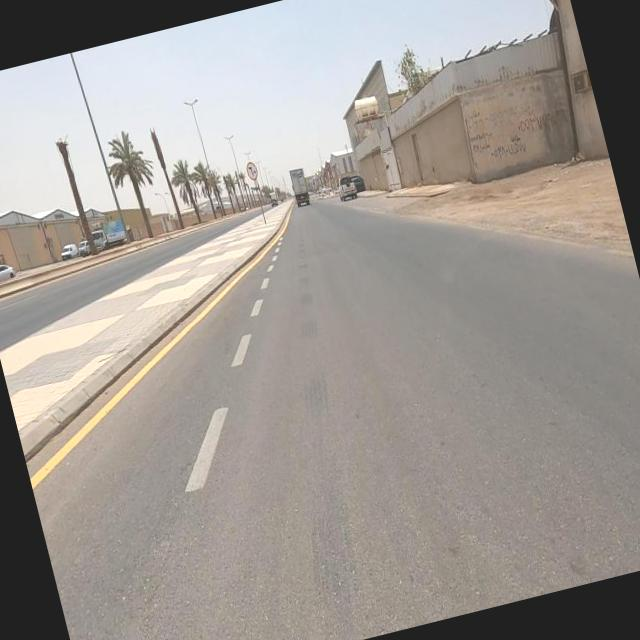debris: (466, 58, 605, 170), (456, 100, 555, 197), (441, 86, 514, 165)
